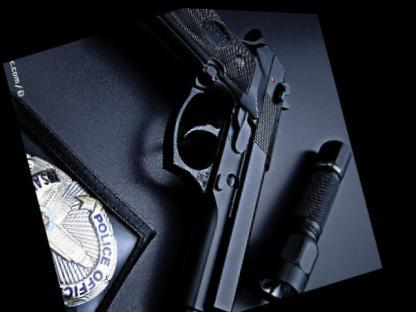pistol: (66, 3, 370, 311)
